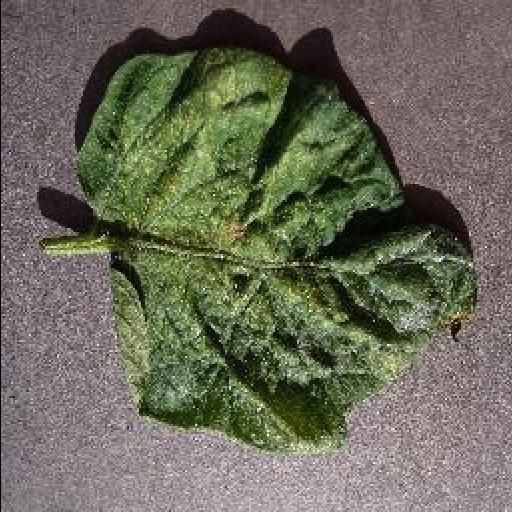disease_tomato: (74, 48, 478, 452)
